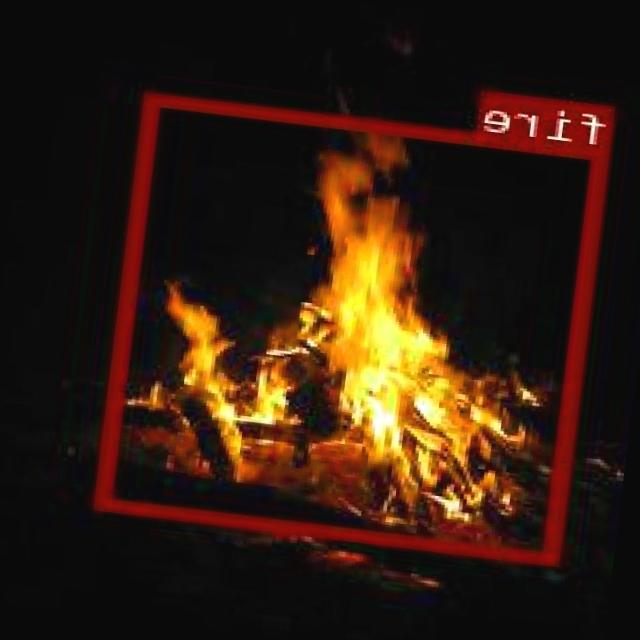fire: (100, 91, 612, 563)
